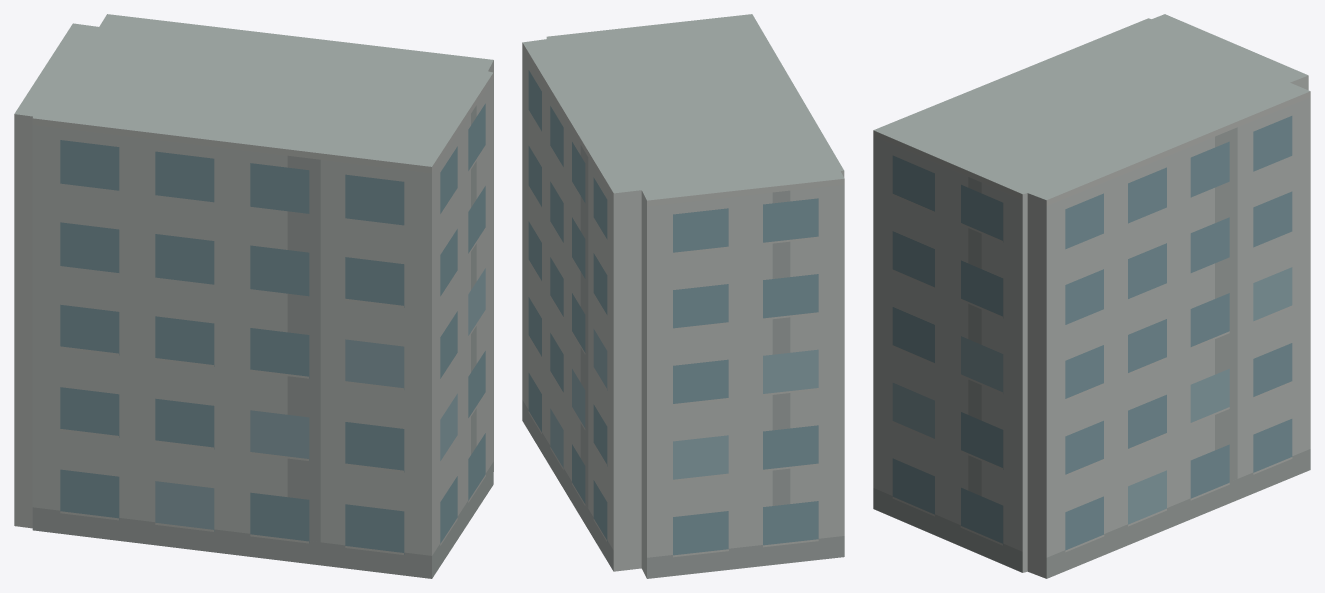
Rendered from survey-upis-32850234.glb.
3 renders of one model, left to right at view 1: azimuth 30°, elevation 25°; view 2: azimuth 150°, elevation 25°; view 3: azimuth 270°, elevation 25°, orthographic. The views are drawn at different scales.
Visible parts, largest first — view 1: survey-upis-32850234.tmp; view 2: survey-upis-32850234.tmp; view 3: survey-upis-32850234.tmp.
Boxes of the visible parts, left/top/right/bottom form: survey-upis-32850234.tmp: left=14, top=14, right=493, bottom=578; survey-upis-32850234.tmp: left=522, top=14, right=844, bottom=578; survey-upis-32850234.tmp: left=873, top=14, right=1310, bottom=578.
Size of the model in its own units: 16.67 by 15.8 by 16.54.
